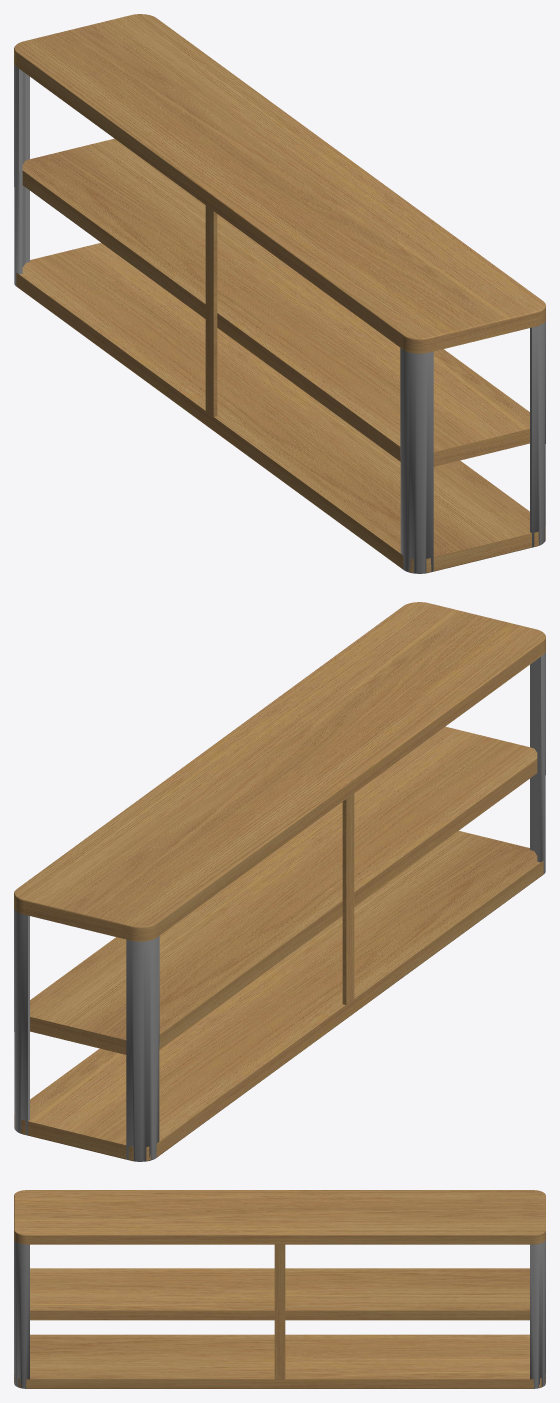
The model's file is stand.FBX.
The picture shows the model from 3 angles, top to bottom: view 1: azimuth 30°, elevation 25°; view 2: azimuth 150°, elevation 25°; view 3: azimuth 270°, elevation 25°; orthographic projection. The views are drawn at different scales.
Parts seen in each view (by area): view 1: Rectangle005, Rectangle025, Rectangle006, Rectangle004, Rectangle003, Rectangle001, Rectangle007; view 2: Rectangle005, Rectangle025, Rectangle006, Rectangle001, Rectangle002, Rectangle004, Rectangle007; view 3: Rectangle005, Rectangle006, Rectangle025, Rectangle003, Rectangle002, Rectangle008.
Part boxes in pixels (box(x1,y1,x2,y2)): Rectangle005: box(14, 14, 545, 353); Rectangle025: box(22, 138, 529, 466); Rectangle006: box(16, 243, 545, 572); Rectangle004: box(400, 348, 433, 573); Rectangle003: box(530, 320, 545, 547); Rectangle001: box(14, 64, 29, 288); Rectangle007: box(205, 205, 217, 416); Rectangle005: box(14, 602, 545, 941); Rectangle025: box(30, 726, 537, 1054); Rectangle006: box(14, 831, 543, 1160); Rectangle001: box(126, 936, 159, 1161); Rectangle002: box(14, 908, 29, 1135); Rectangle004: box(530, 652, 545, 876); Rectangle007: box(342, 793, 354, 1004); Rectangle005: box(14, 1190, 545, 1244); Rectangle006: box(14, 1334, 545, 1388); Rectangle025: box(30, 1268, 529, 1320); Rectangle003: box(14, 1240, 29, 1388); Rectangle002: box(530, 1240, 545, 1388); Rectangle008: box(274, 1244, 285, 1379).
Size of the model in its own units: 0.4 by 0.64 by 2.
